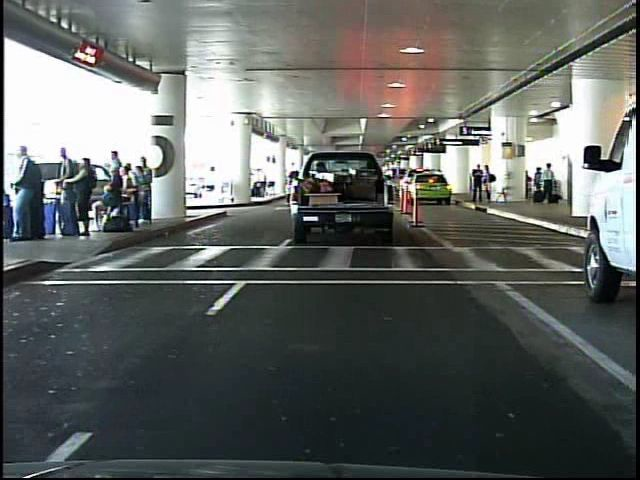person: (479, 164, 495, 205), (469, 161, 483, 205)
